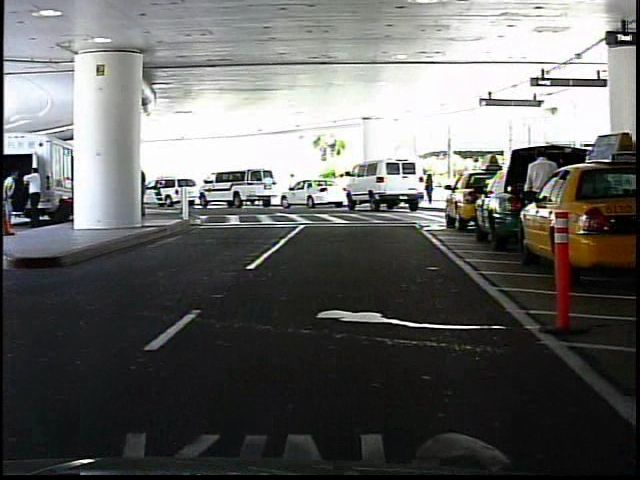person: (520, 145, 559, 255), (284, 170, 300, 204), (424, 173, 438, 208)
